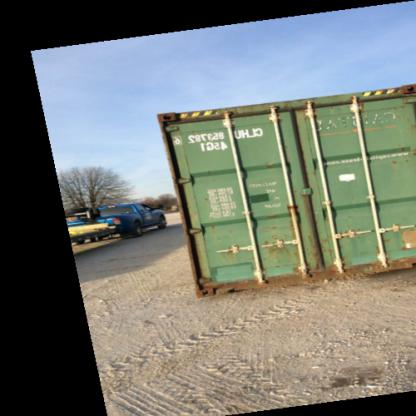Damage: (312, 109, 413, 130), (263, 221, 318, 256), (376, 226, 408, 256), (212, 234, 238, 262), (386, 148, 415, 166)
